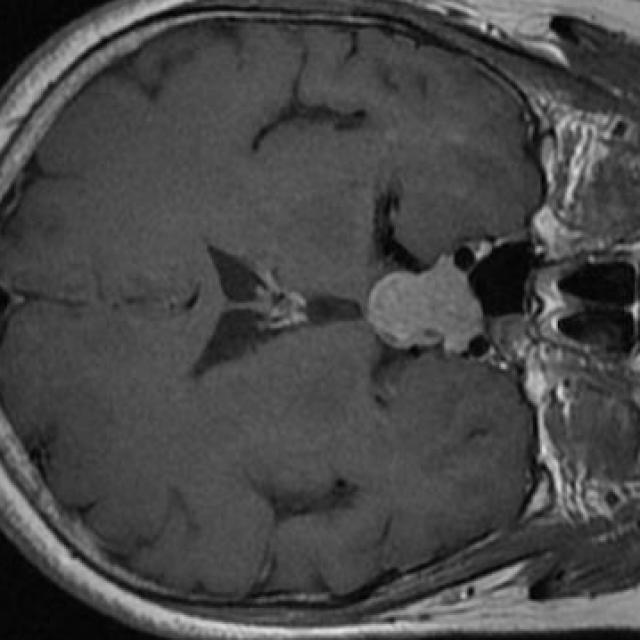pituitary: (367, 255, 485, 353)
